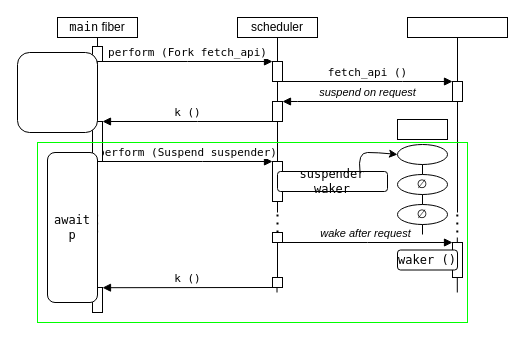
This 525x340 diagram has some shape labels left out. Here are the shapes that lost their labels. From the top down, the box of each, then its label:
(406, 16, 508, 38): fetch_api fiber
(16, 52, 98, 132): fork_promise
(396, 118, 448, 140): CQS
(396, 144, 448, 164): waker
